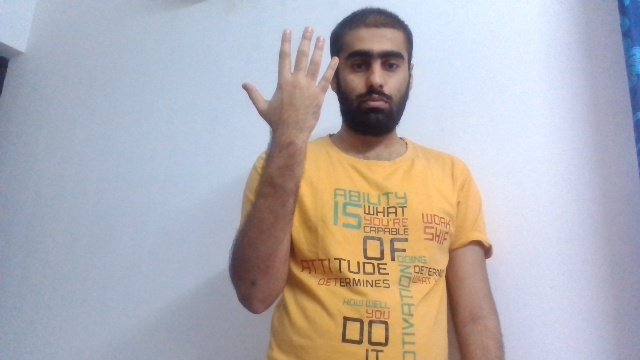paper: (240, 25, 340, 140)
